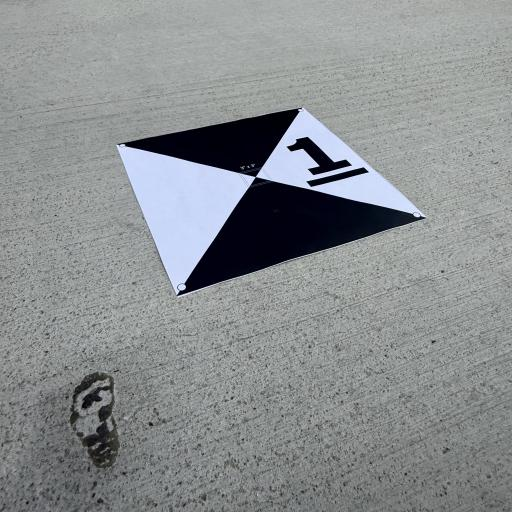target1: (117, 104, 435, 290)
